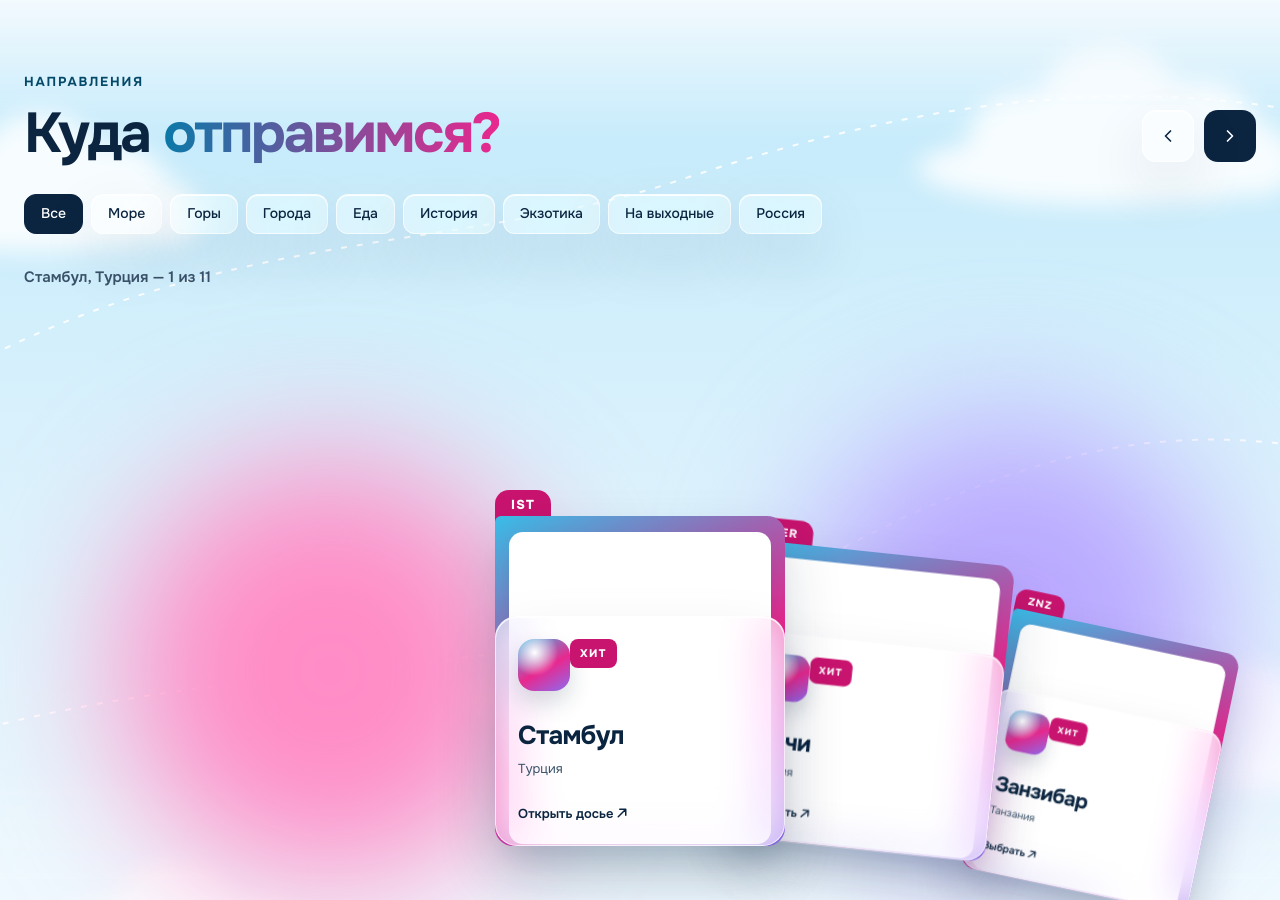
Test: Destinations › filters folders
The image size is (1280, 900).
Click the button "Море" at (127, 214), box [91,194,162,234]
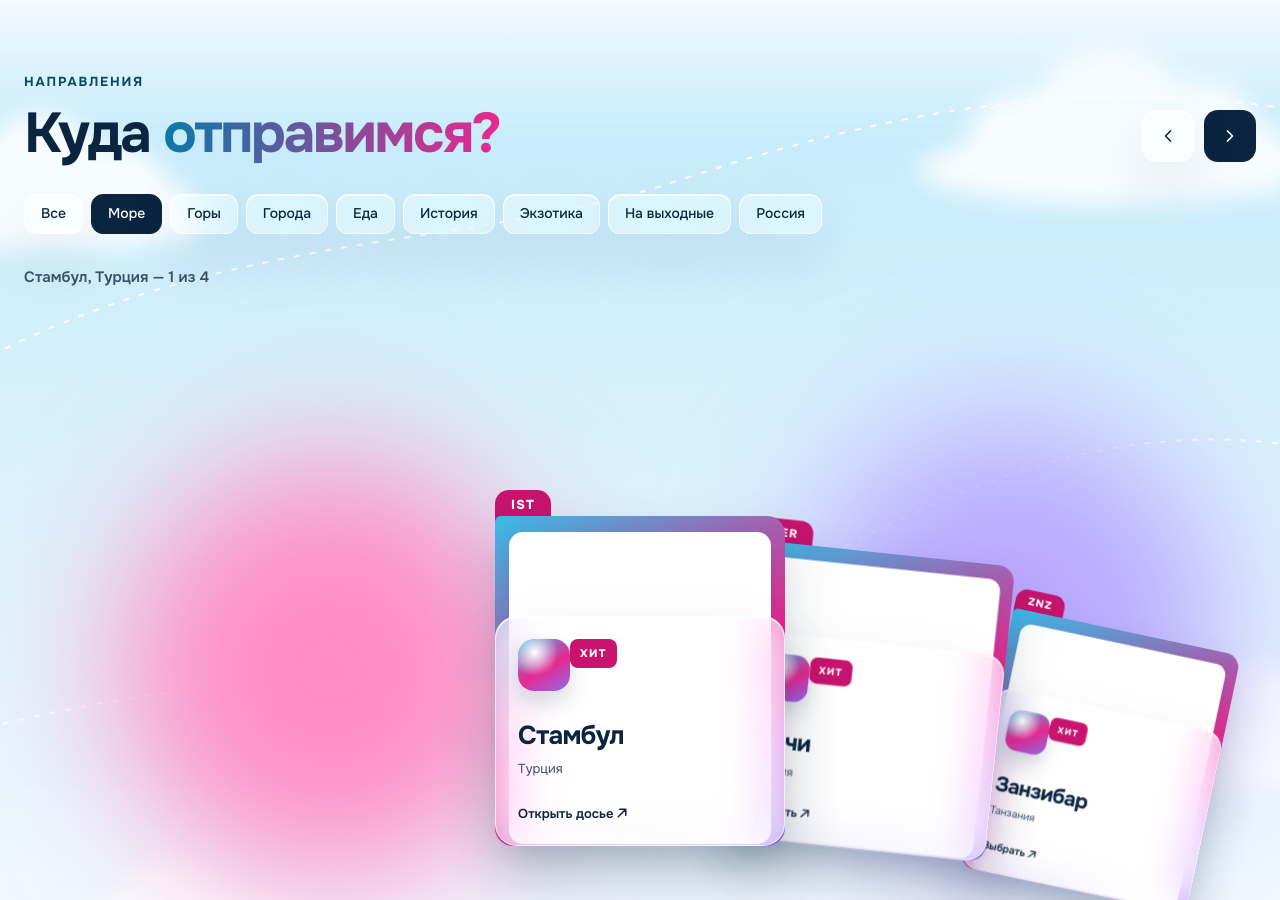
Expected: the text "Стамбул, Турция — 1 из 4" is shown, [24,266,209,286]
